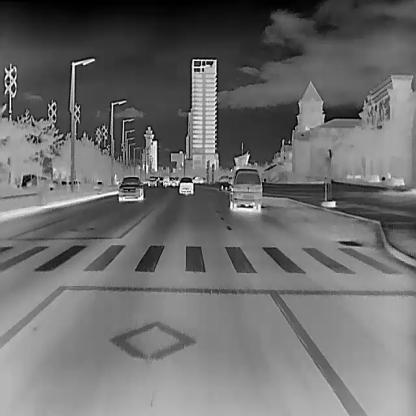car: (228, 167, 262, 211), (118, 175, 144, 202), (178, 175, 194, 194), (161, 174, 170, 186), (147, 175, 155, 187)
